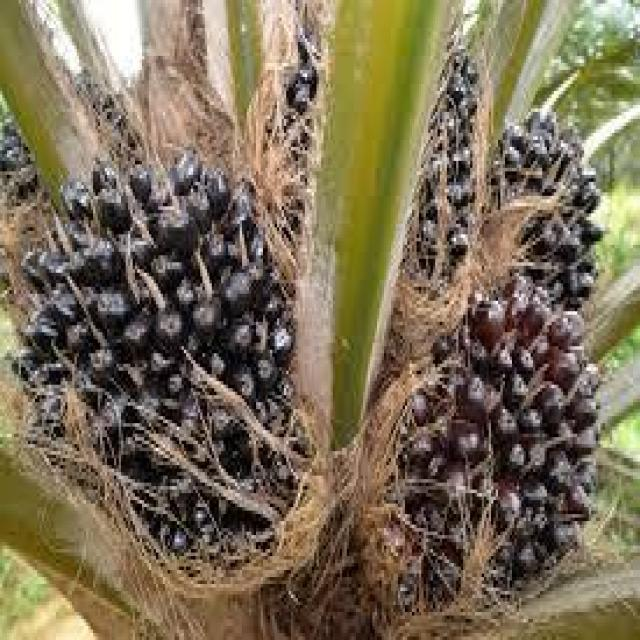Unripe: (9, 147, 310, 559), (261, 28, 477, 280), (480, 94, 608, 315)
